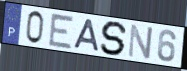0: (25, 10, 46, 45)
6: (156, 29, 177, 63)
A: (72, 18, 101, 53)
E: (47, 11, 76, 51)
N: (127, 23, 155, 61)
S: (99, 20, 130, 57)
